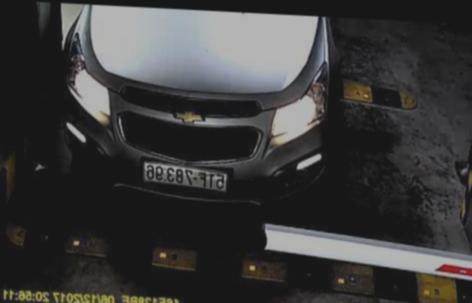License_Plate: (142, 160, 232, 191)
